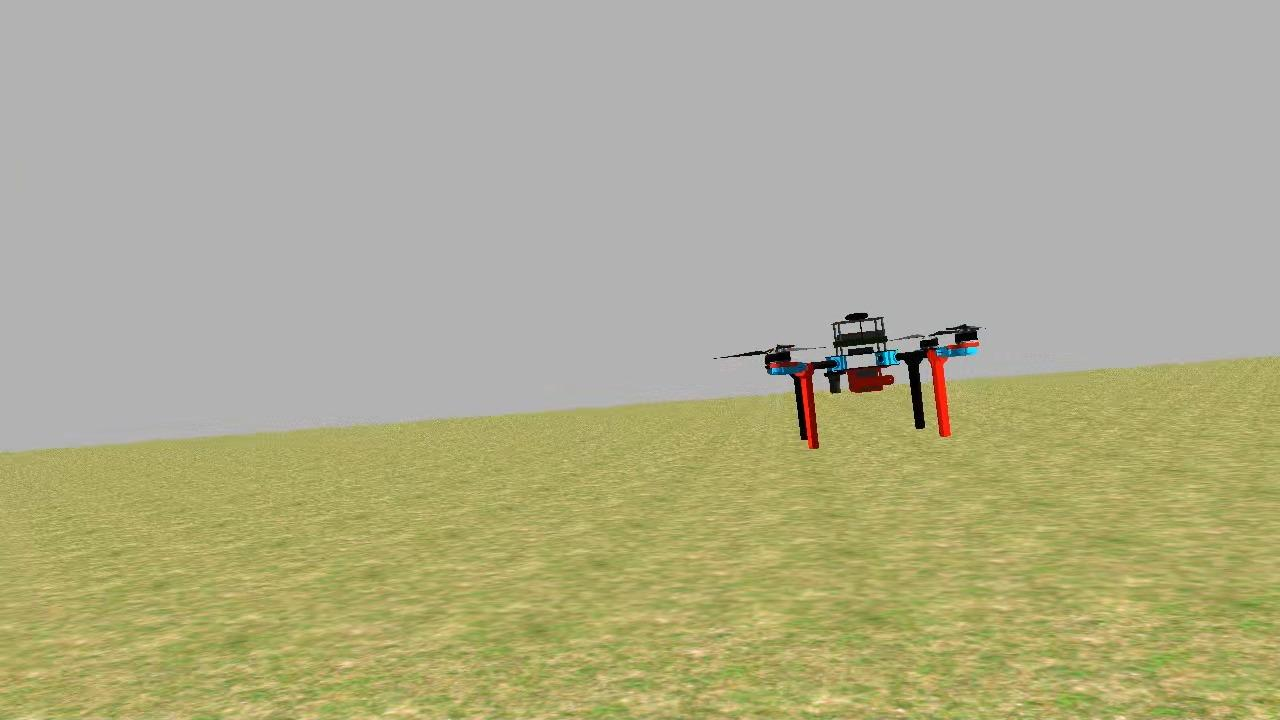UAV: (738, 293, 993, 467)
